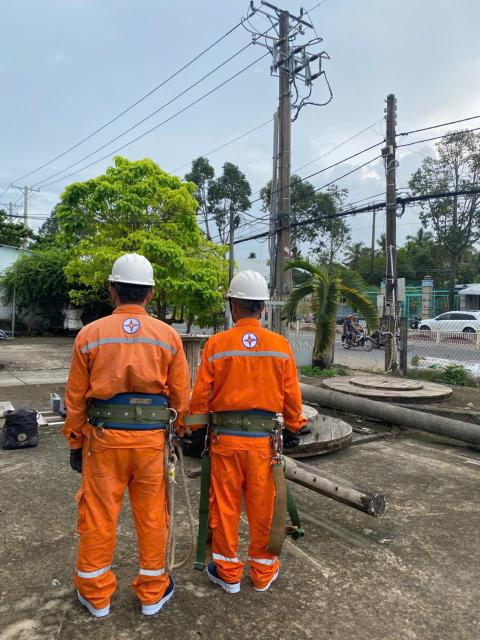gloves: (60, 443, 90, 477), (184, 423, 208, 455), (285, 426, 309, 453)
harness: (63, 390, 182, 444), (208, 410, 304, 448)
helmet: (97, 254, 163, 292), (219, 267, 275, 302)
shoes: (67, 573, 125, 623), (135, 564, 185, 613), (207, 550, 248, 597), (249, 550, 293, 592)
